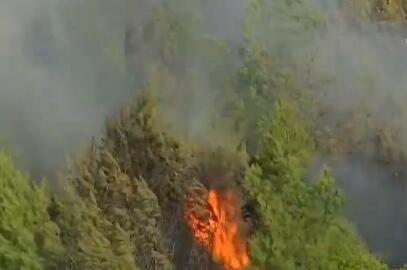fire: (184, 187, 252, 268)
yanwu: (3, 0, 407, 171)
